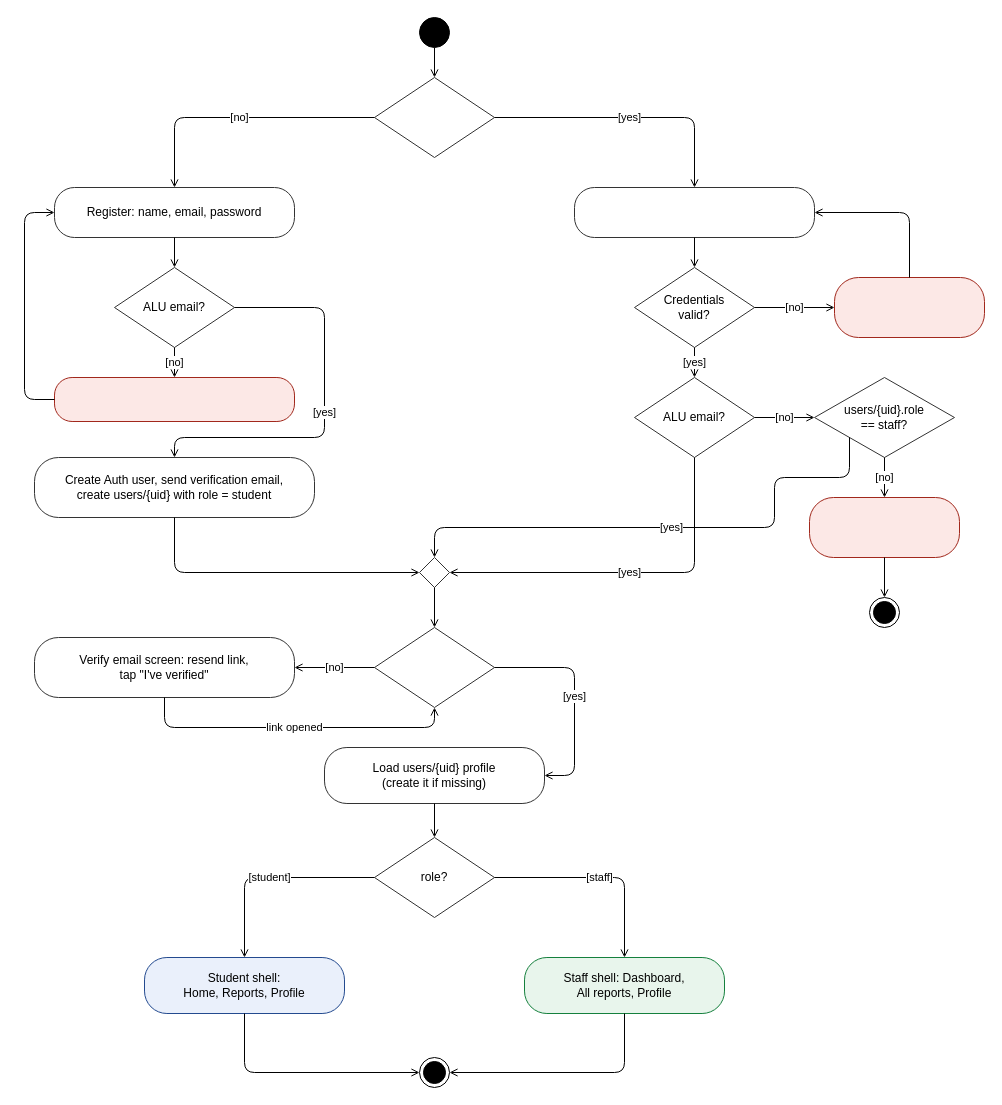
Some shapes in this 1002 by 1105 pixel diagram are drawn without their labels. Here are the shapes that lost their labels. From the top down, the centre of each, then its label:
(x=434, y=117): Has an account?
(x=694, y=212): Sign in: email, password
(x=909, y=307): Show "Email or password is incorrect"
(x=174, y=399): Show "Use your ALU email"
(x=884, y=527): Sign out, show "CampusFix is for ALU accounts"
(x=434, y=667): Email verified?
